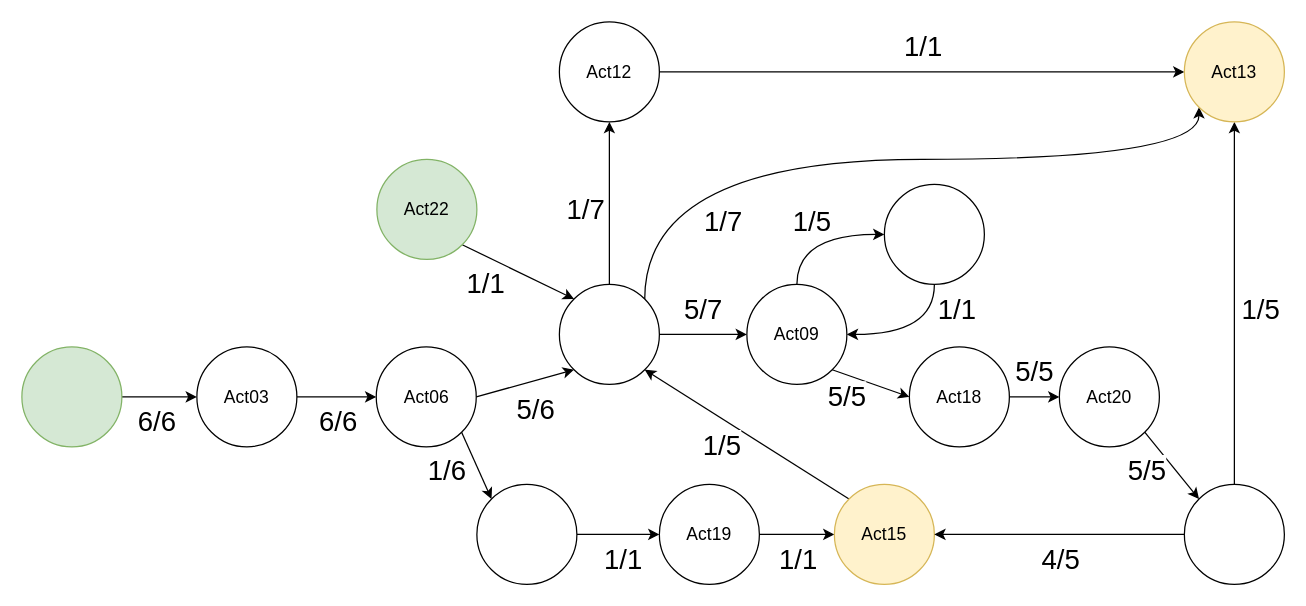
The diagram is 1306 pixels wide and 606 high, and some of its shapes have lost their labels. Each missing label, with the centre of its shape:
Act01: the point at 526,533
Act08: the point at 1233,533
Act10: the point at 71,396
Act14: the point at 933,233
Act17: the point at 608,333
